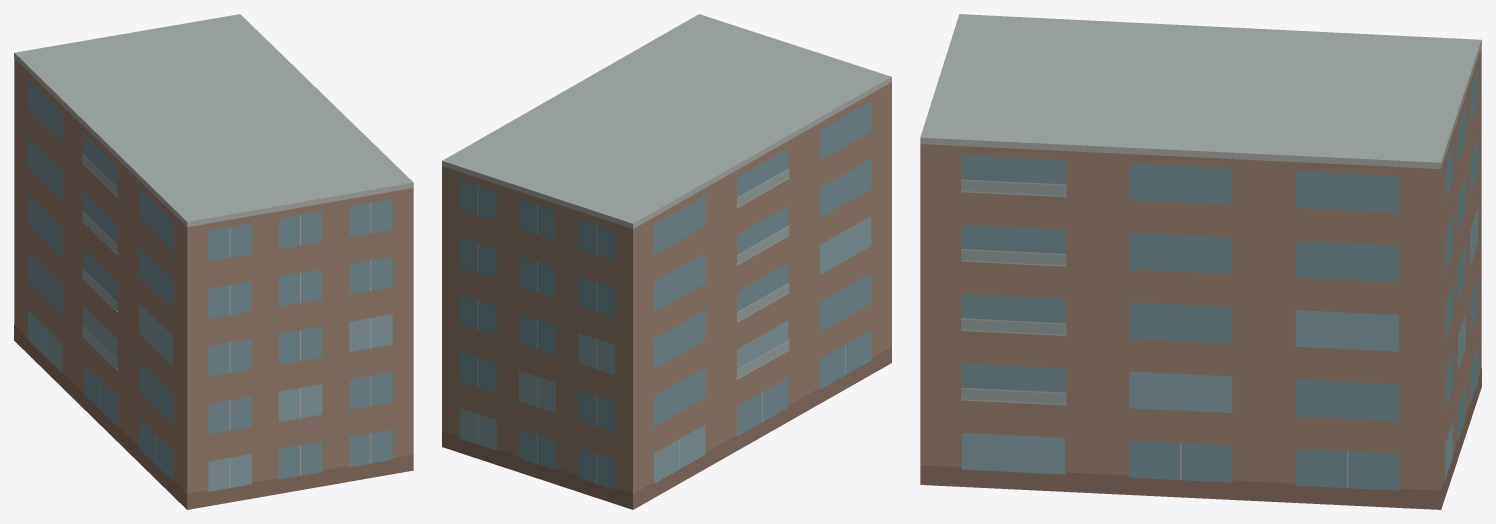
File: survey-upis-32923016.glb
3 renders of one model, left to right at view 1: azimuth 30°, elevation 25°; view 2: azimuth 150°, elevation 25°; view 3: azimuth 270°, elevation 25°, orthographic. The views are drawn at different scales.
Parts seen in each view (by area): view 1: survey-upis-32923016.tmp; view 2: survey-upis-32923016.tmp; view 3: survey-upis-32923016.tmp.
Part boxes in pixels (<box>): survey-upis-32923016.tmp: <box>14,14,413,509</box>; survey-upis-32923016.tmp: <box>442,14,891,509</box>; survey-upis-32923016.tmp: <box>920,14,1481,509</box>.
Bounding box in the file's own units: 12.23 × 13.3 × 19.51.
